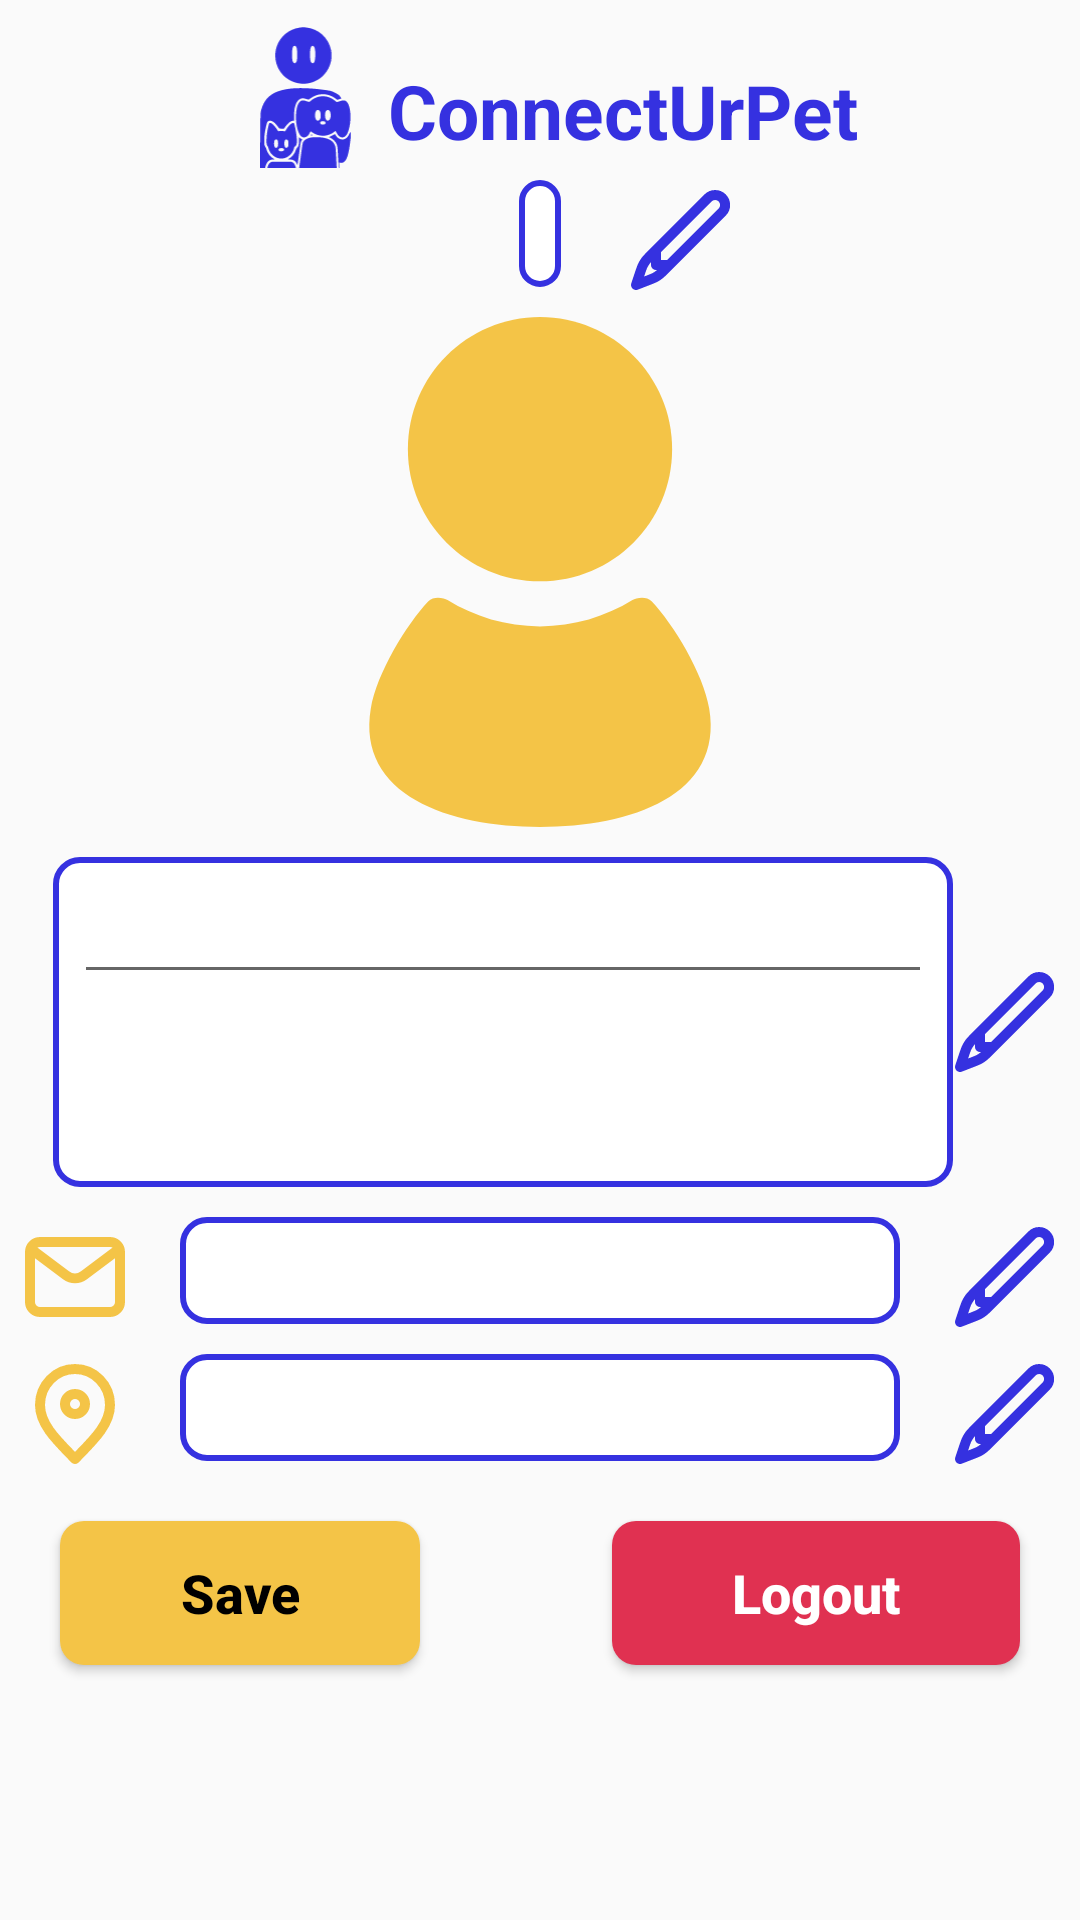

Icons on this 1080*1920 Android screen, each with its box as detection(x1, y1, x2, y2):
email: detection(25, 1237, 125, 1317)
location: detection(35, 1364, 115, 1464)
pencil: detection(631, 190, 730, 290), detection(955, 972, 1054, 1072), detection(955, 1227, 1054, 1327), detection(955, 1364, 1054, 1464)
